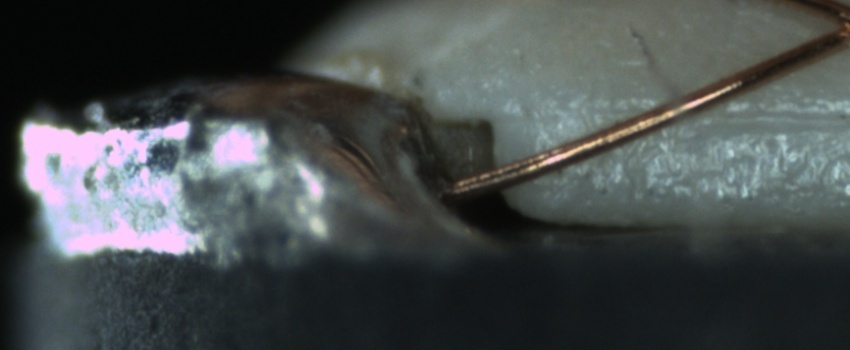CL: (810, 4, 849, 52)
DL: (565, 84, 846, 146)
